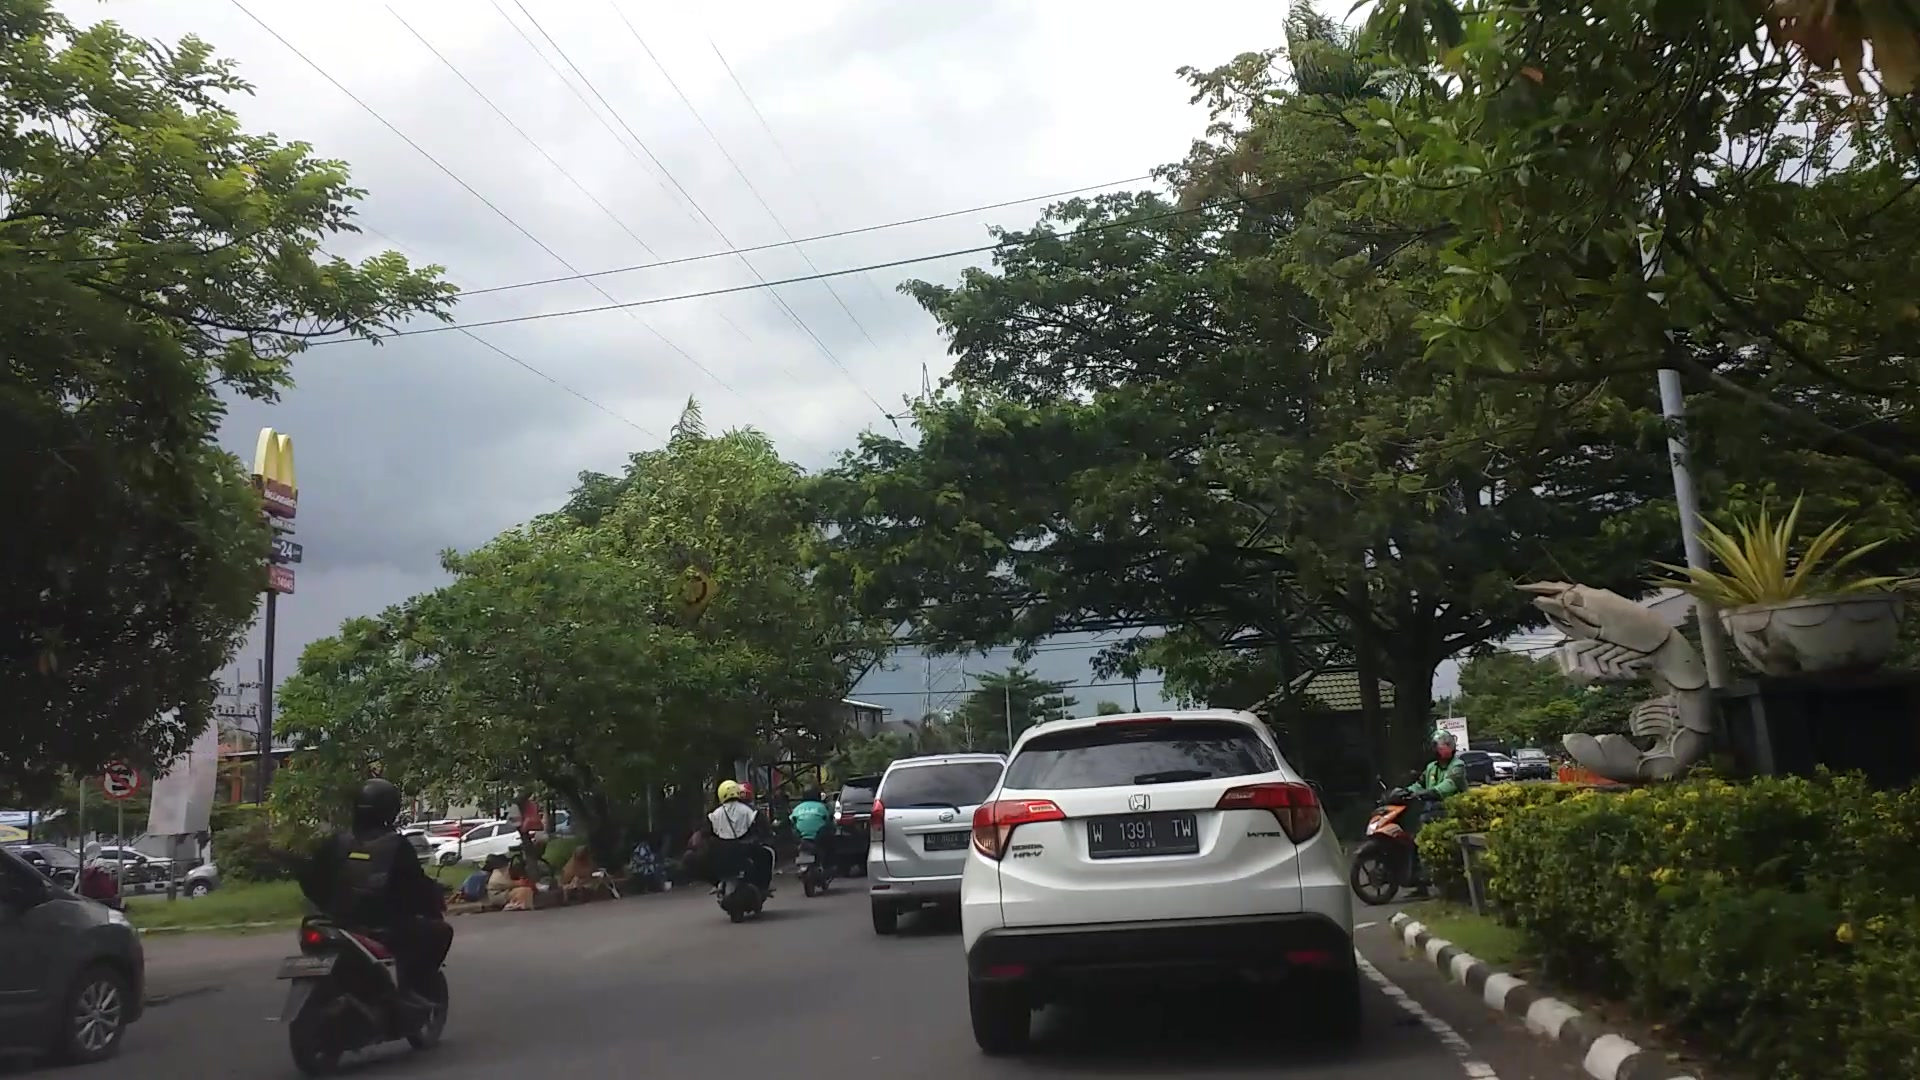plate_positive: (1088, 814, 1199, 860)
